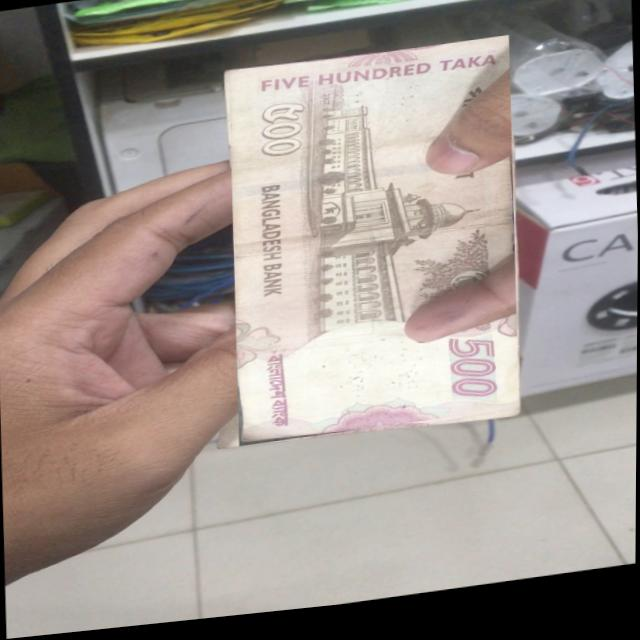Taka: (226, 44, 521, 452)
